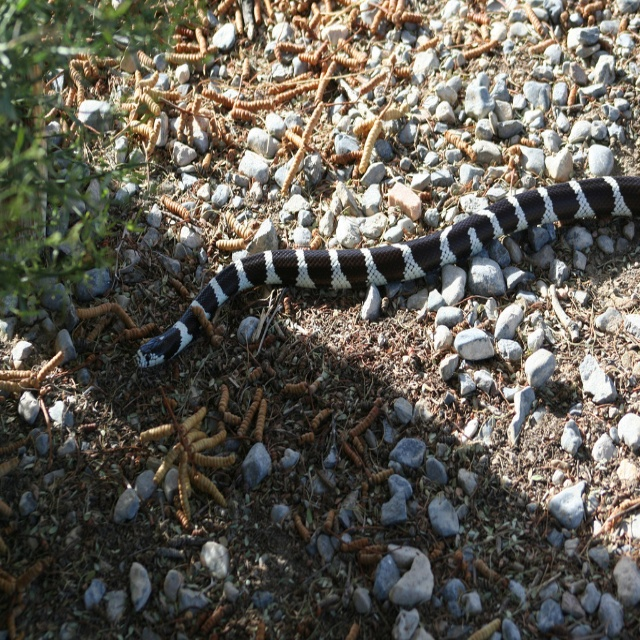Snake: (136, 177, 640, 370)
